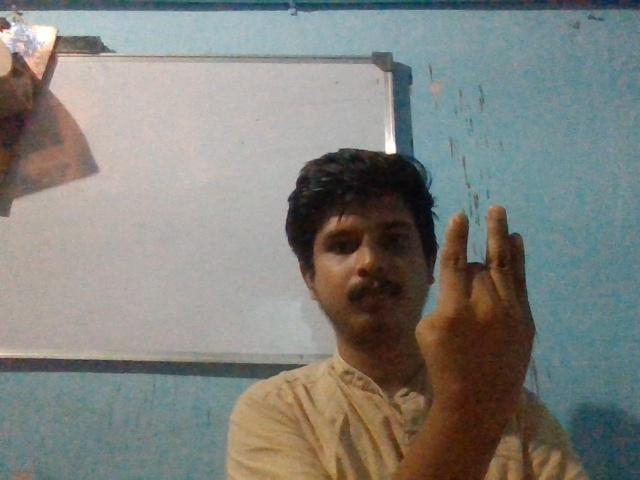Akash: (394, 185, 554, 400)
